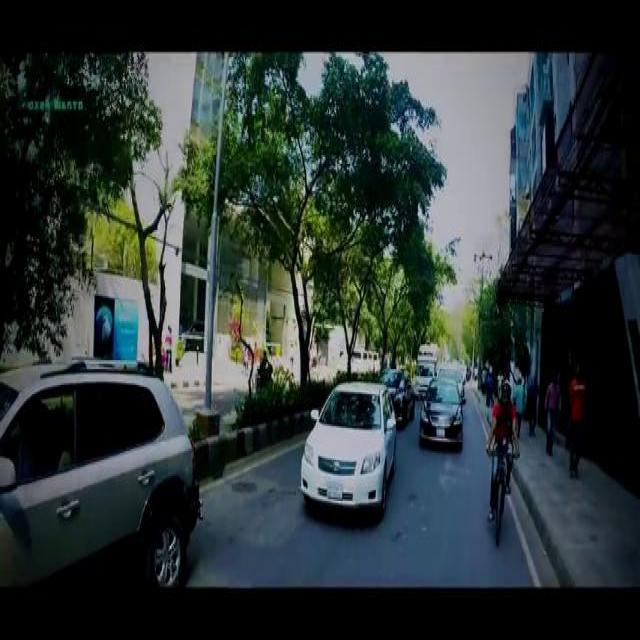bicycle: (484, 441, 518, 543)
car: (1, 357, 200, 582), (300, 379, 396, 507), (419, 372, 463, 439), (378, 364, 412, 422)
motorbike: (254, 362, 272, 389)
pickup: (412, 353, 436, 394)
